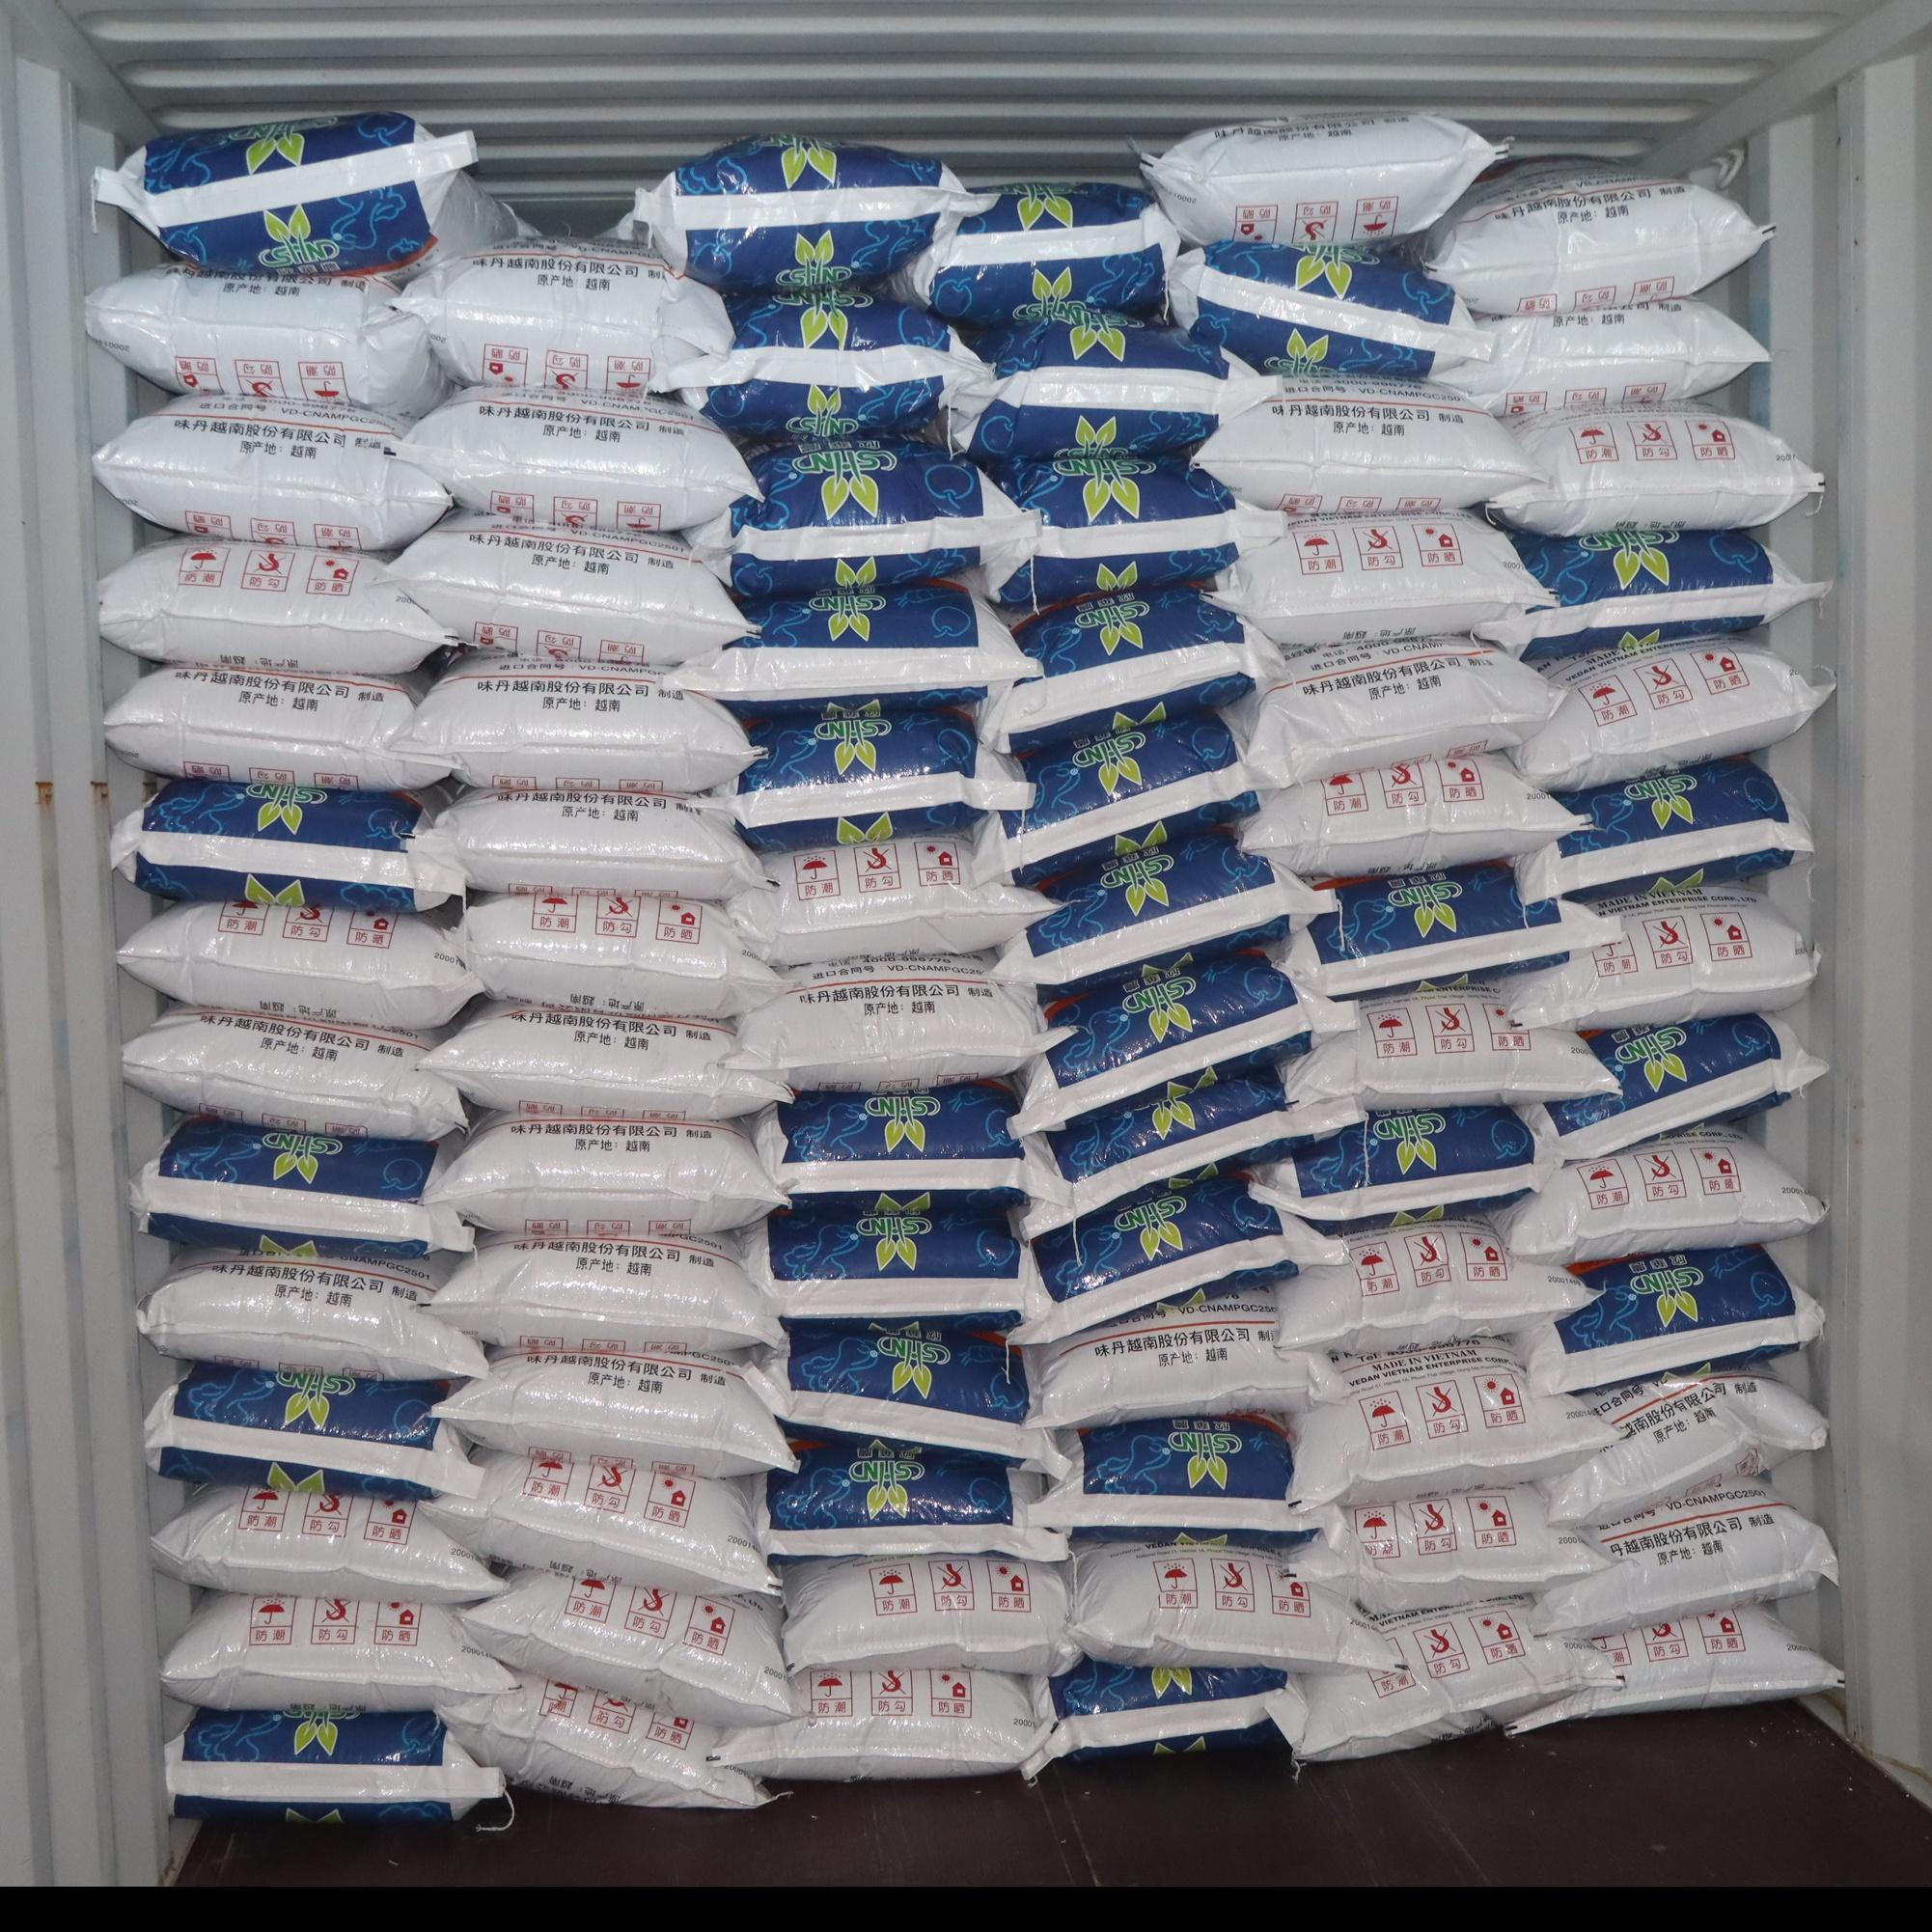sack: (92, 110, 536, 280), (1016, 948, 1355, 1132), (1023, 1063, 1368, 1238), (614, 136, 993, 290), (1014, 1168, 1345, 1343), (1267, 1598, 1619, 1760), (389, 511, 752, 667), (692, 437, 1039, 598), (1421, 157, 1773, 315), (994, 830, 1334, 993), (87, 262, 446, 416), (94, 395, 451, 548), (458, 1571, 803, 1729), (1290, 1341, 1615, 1506), (982, 432, 1281, 609), (396, 241, 731, 398), (671, 580, 1039, 722), (398, 389, 757, 533), (428, 1449, 778, 1594), (978, 586, 1281, 752), (1511, 635, 1833, 791), (662, 288, 993, 437), (1143, 111, 1504, 248), (1230, 635, 1559, 784), (99, 538, 455, 674), (1194, 375, 1543, 513), (1476, 524, 1828, 660), (975, 715, 1256, 885), (131, 1118, 472, 1258), (395, 660, 752, 793), (1530, 1479, 1838, 1633), (432, 1345, 793, 1476), (145, 1362, 481, 1500), (732, 954, 1067, 1092), (110, 778, 462, 909), (119, 901, 481, 1026), (1506, 886, 1819, 1031), (952, 318, 1272, 460), (1214, 511, 1553, 644), (426, 1111, 784, 1237), (1286, 862, 1619, 996), (122, 1007, 464, 1138), (1497, 1125, 1824, 1261), (433, 1675, 768, 1808), (1070, 1537, 1394, 1674), (1523, 1246, 1822, 1392), (727, 708, 1033, 851), (136, 1253, 485, 1378), (1028, 1414, 1341, 1553), (423, 1001, 791, 1120), (1509, 1605, 1842, 1736), (1171, 239, 1490, 375), (106, 665, 451, 791), (1491, 405, 1822, 536), (1028, 1290, 1341, 1428), (1277, 1215, 1594, 1352), (1532, 1016, 1828, 1161), (1514, 755, 1813, 899), (759, 1334, 1065, 1472), (1242, 754, 1582, 878), (1545, 1375, 1828, 1523), (755, 1081, 1067, 1215), (453, 890, 780, 1017), (1288, 1483, 1610, 1612), (893, 182, 1180, 327), (747, 1203, 1039, 1345), (729, 839, 1056, 964), (163, 1591, 510, 1709), (152, 1488, 502, 1605), (1286, 982, 1614, 1106), (433, 1237, 784, 1352), (750, 1435, 1067, 1560), (1251, 1106, 1562, 1233), (166, 1706, 502, 1822), (711, 1665, 1051, 1780), (1435, 299, 1769, 416), (409, 789, 761, 899), (782, 1553, 1079, 1674), (1023, 1658, 1288, 1776)
